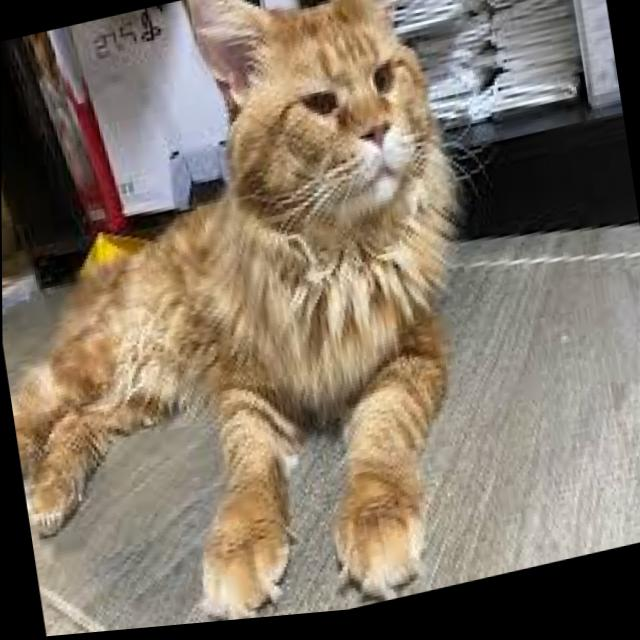cat: (0, 0, 542, 640)
